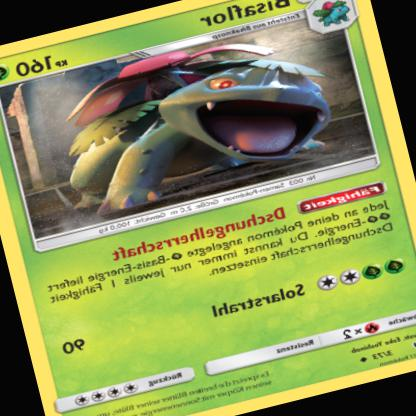Venusaur: (41, 21, 344, 232)
